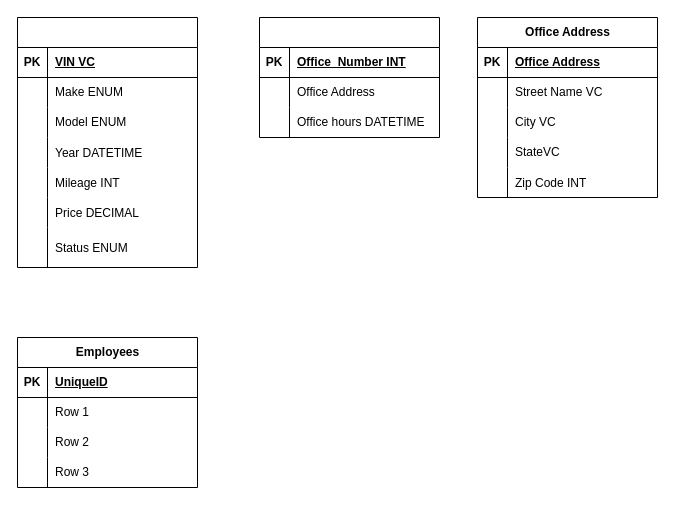
The diagram is 675 pixels wide and 505 high, and some of its shapes have lost their labels. The box of each missing label's shape, as (x1, y1, x2, y2) in pixels:
Rental Cars: (16, 16, 198, 268)
Rental Offices: (258, 16, 440, 138)
